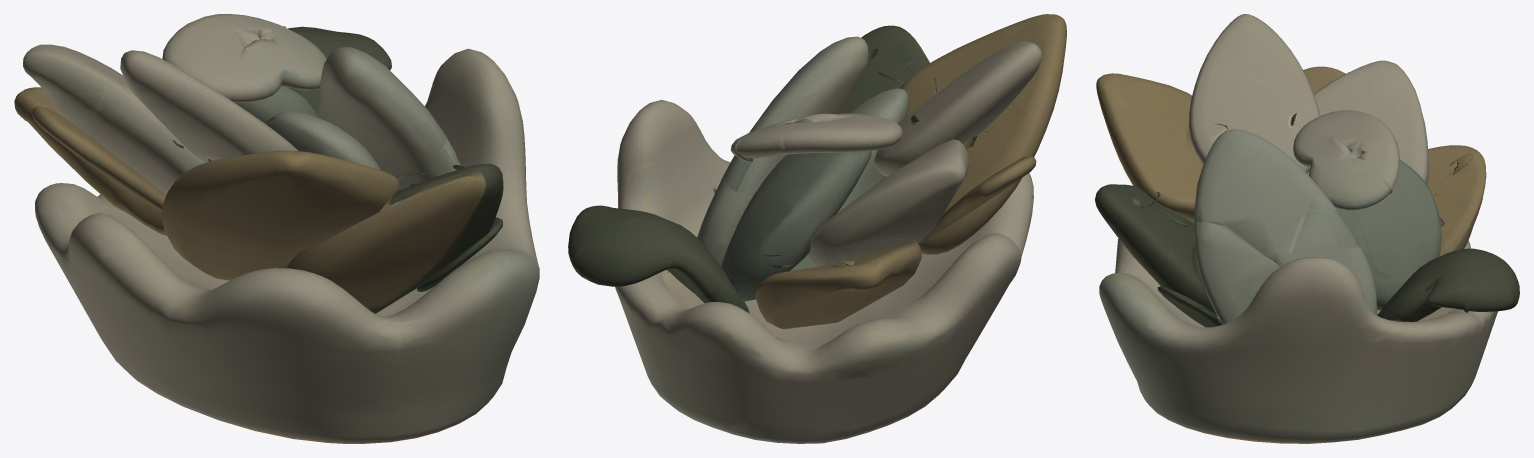
The model's file is acc_hat_meadow_wreath_01.glb.
The picture shows the model from 3 angles, left to right: view 1: azimuth 30°, elevation 25°; view 2: azimuth 150°, elevation 25°; view 3: azimuth 270°, elevation 25°; orthographic projection. The views are drawn at different scales.
Visible parts, largest first — view 1: acc_hat_meadow_wreath_01; view 2: acc_hat_meadow_wreath_01; view 3: acc_hat_meadow_wreath_01.
Boxes of the visible parts, x1,y1,x2,y2 form: acc_hat_meadow_wreath_01: [14, 14, 539, 443]; acc_hat_meadow_wreath_01: [568, 14, 1066, 443]; acc_hat_meadow_wreath_01: [1095, 14, 1519, 443].
Bounding box in the file's own units: 0.2685 × 0.22 × 0.2856.
Materials: 1 (1 with a texture image).
